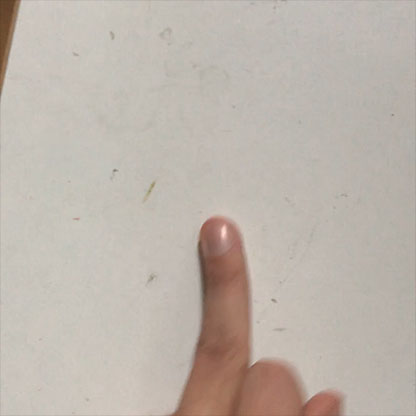fingertip: (188, 209, 249, 265)
